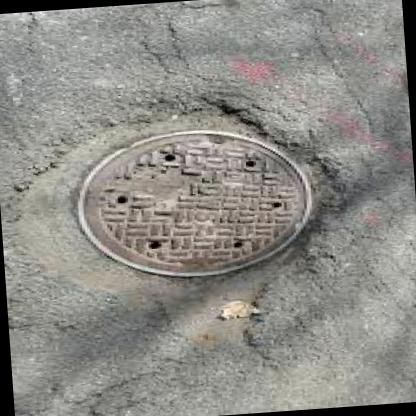manholes: (44, 109, 336, 294)
